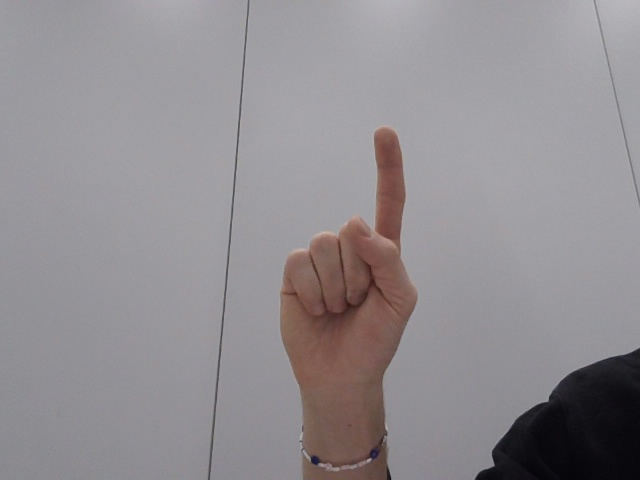up: (254, 118, 437, 424)
